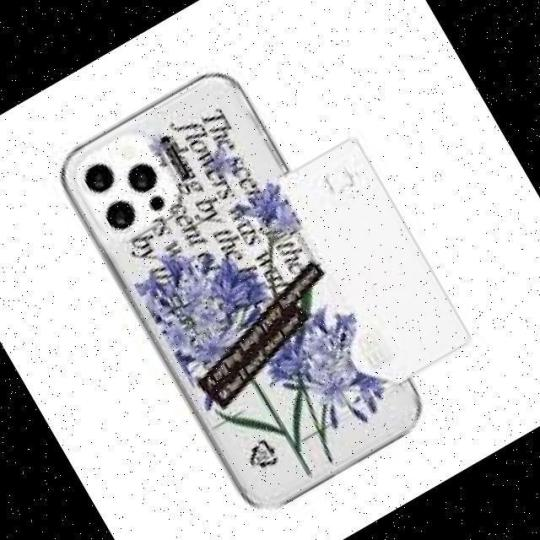phone: (59, 72, 479, 517)
